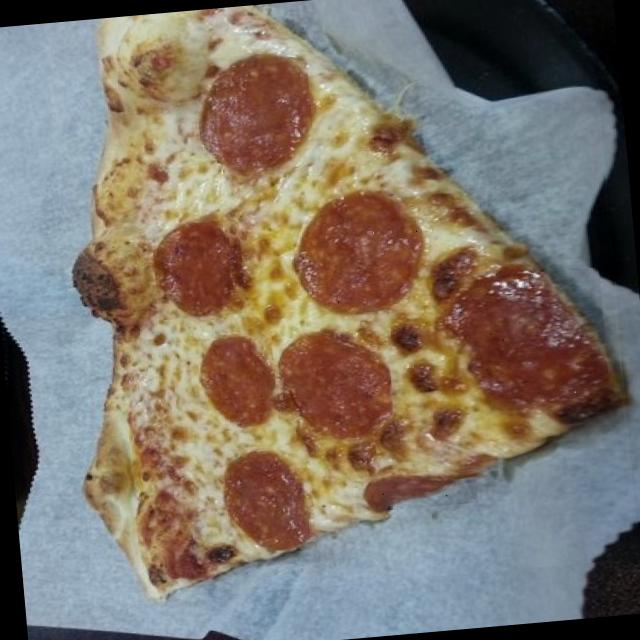pepperoni: (442, 266, 609, 416), (289, 185, 427, 320), (190, 50, 314, 176), (272, 329, 394, 443), (207, 444, 316, 558), (152, 219, 246, 320), (191, 333, 278, 433), (355, 470, 477, 512)
pizza: (73, 5, 623, 600)
